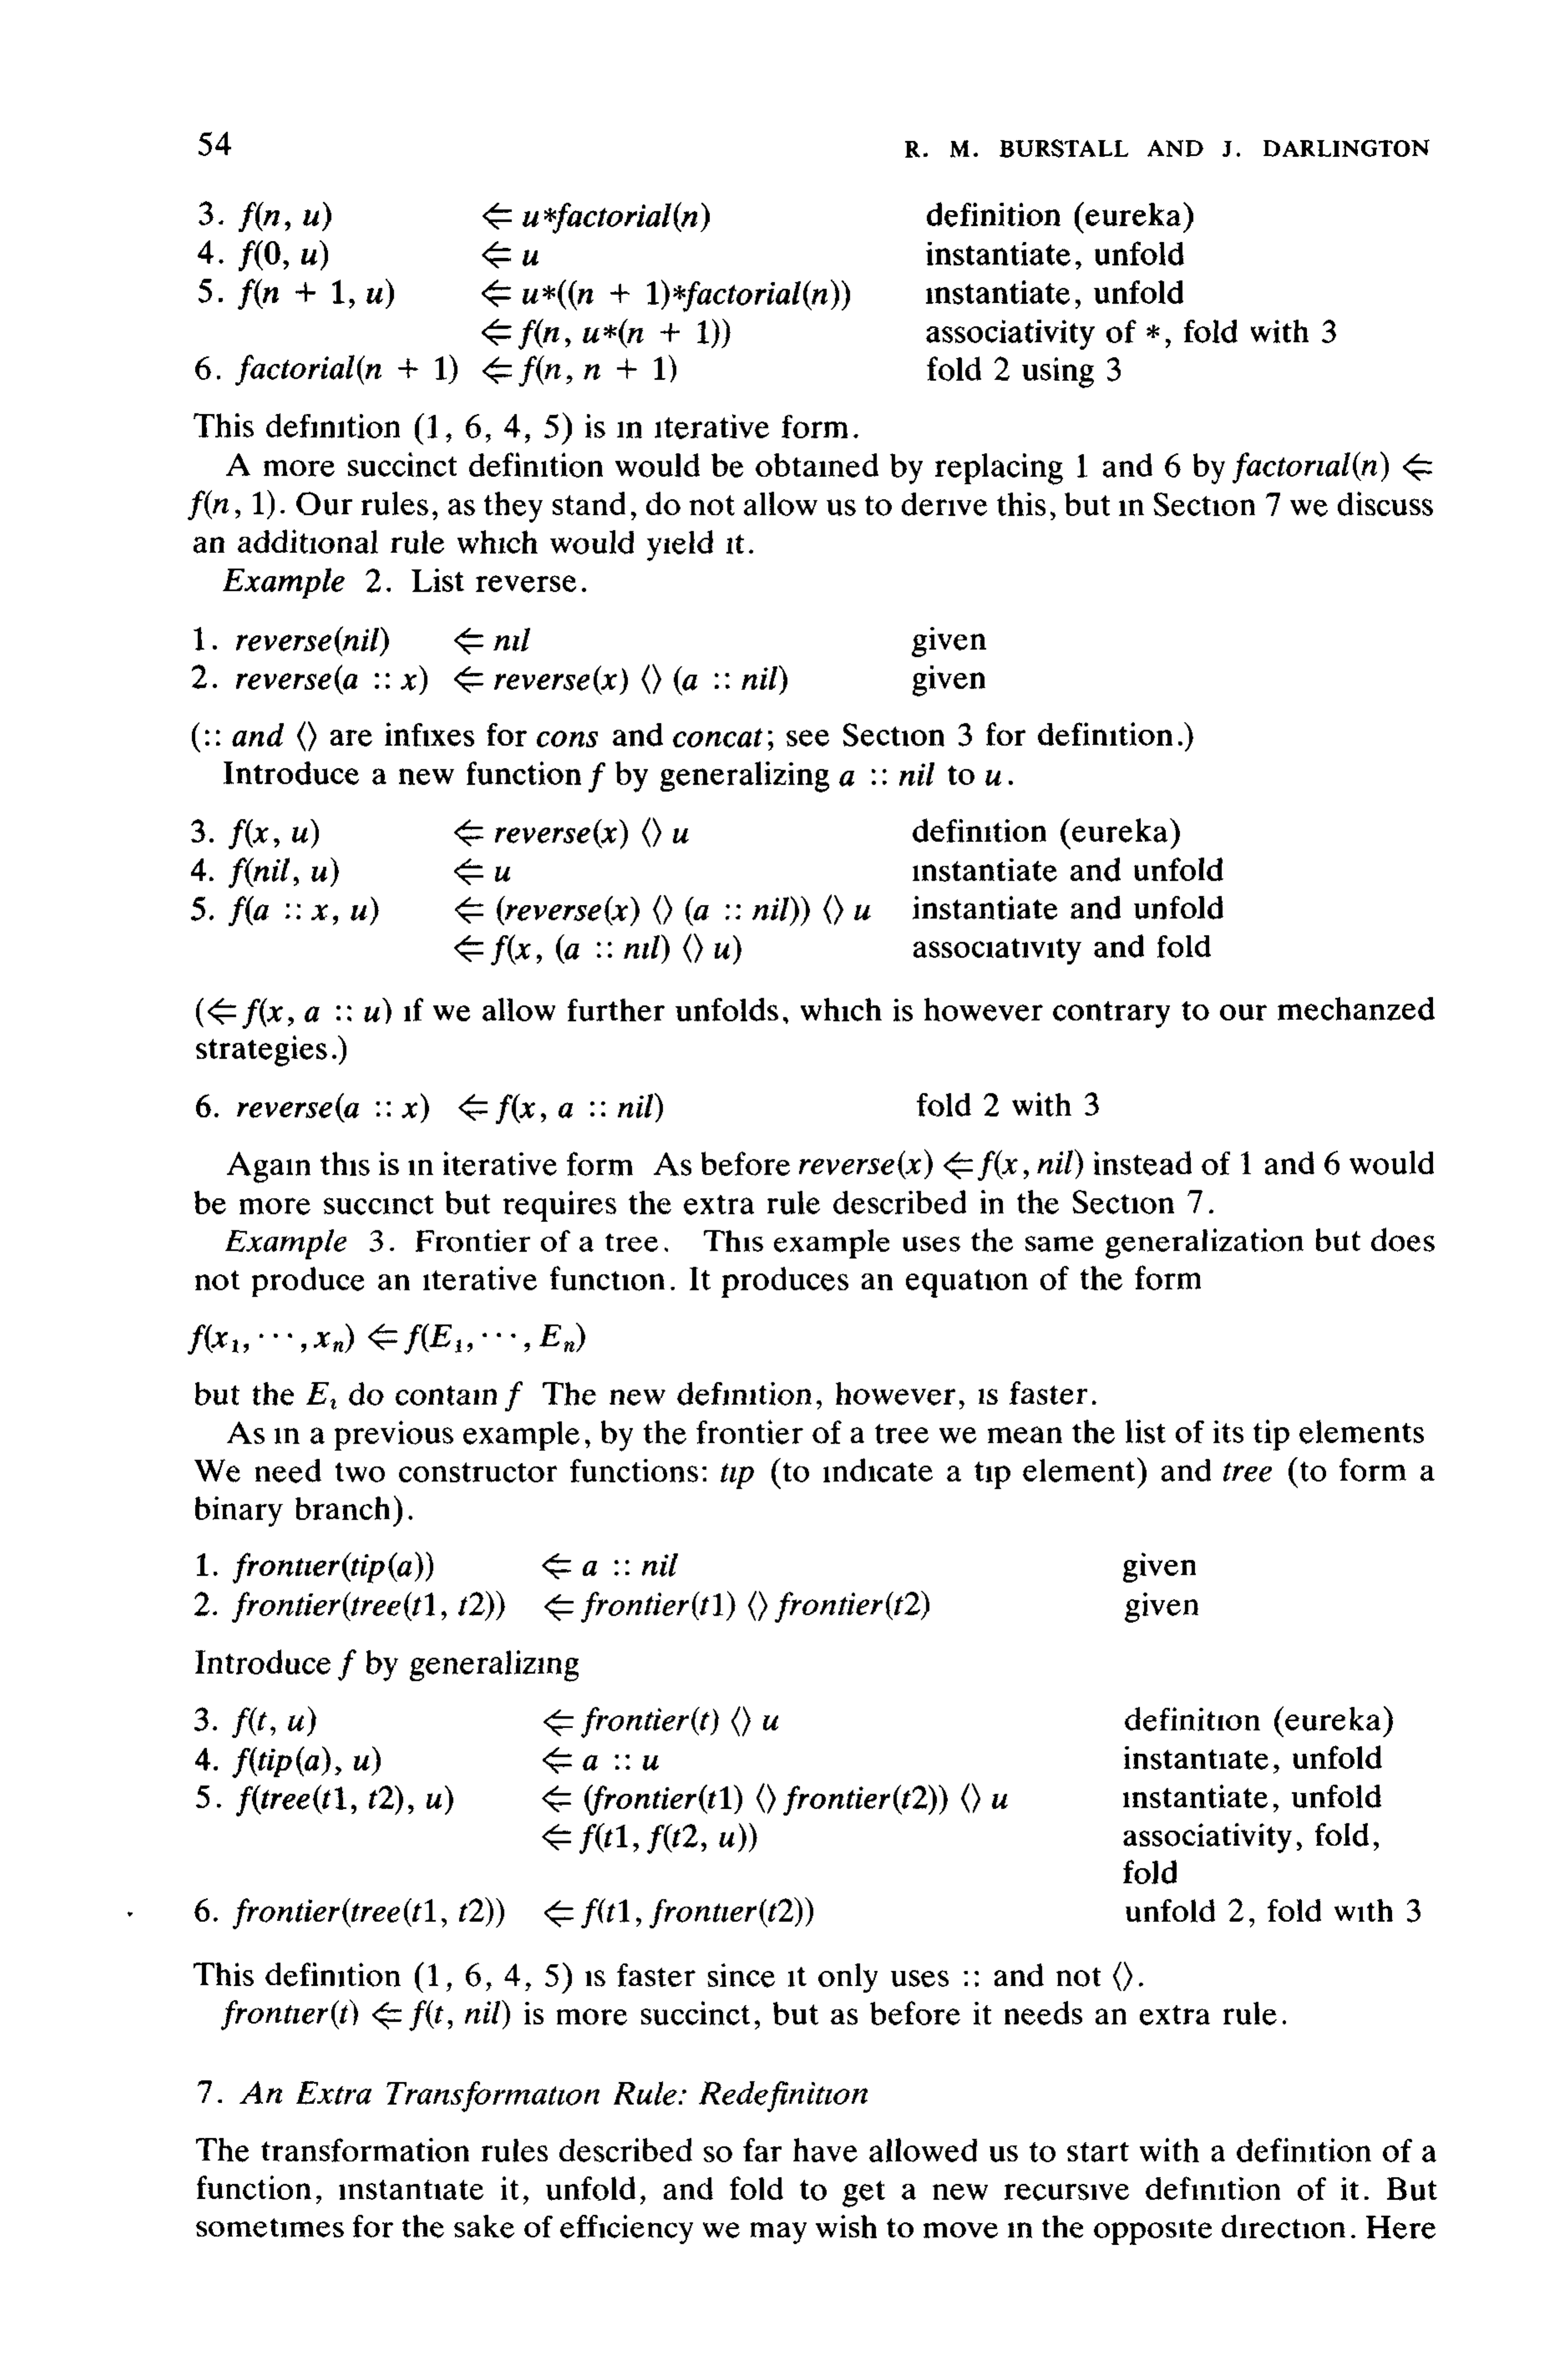maths: (232, 1590, 930, 1623), (236, 664, 788, 697), (232, 1898, 813, 1929), (236, 355, 676, 388), (584, 1782, 1008, 1816), (232, 1552, 678, 1583), (238, 1092, 662, 1124), (454, 895, 870, 926), (187, 1323, 586, 1354), (482, 280, 849, 313), (799, 1150, 1084, 1183), (236, 626, 530, 657), (222, 1999, 510, 2031), (454, 933, 741, 965), (482, 320, 731, 349), (454, 818, 689, 849), (544, 1705, 778, 1737), (482, 203, 710, 234), (236, 1784, 453, 1816), (542, 1823, 757, 1854), (1232, 453, 1431, 484), (196, 998, 391, 1029), (232, 1746, 381, 1777), (238, 280, 393, 309), (229, 896, 379, 926), (229, 858, 339, 888), (544, 1747, 659, 1774), (239, 203, 332, 232), (239, 241, 329, 271), (229, 820, 318, 849), (232, 1705, 316, 1737), (187, 491, 274, 521), (839, 762, 935, 786), (673, 729, 762, 748), (482, 241, 538, 269), (454, 858, 510, 886), (537, 730, 598, 748), (306, 1382, 337, 1410), (542, 1786, 572, 1812), (337, 1650, 357, 1681), (297, 722, 316, 751), (505, 1380, 523, 1412), (1113, 1962, 1133, 1990), (589, 762, 605, 793), (986, 771, 1001, 786), (963, 1971, 979, 1987), (206, 730, 220, 746), (1421, 1466, 1435, 1482), (1147, 325, 1161, 339)
